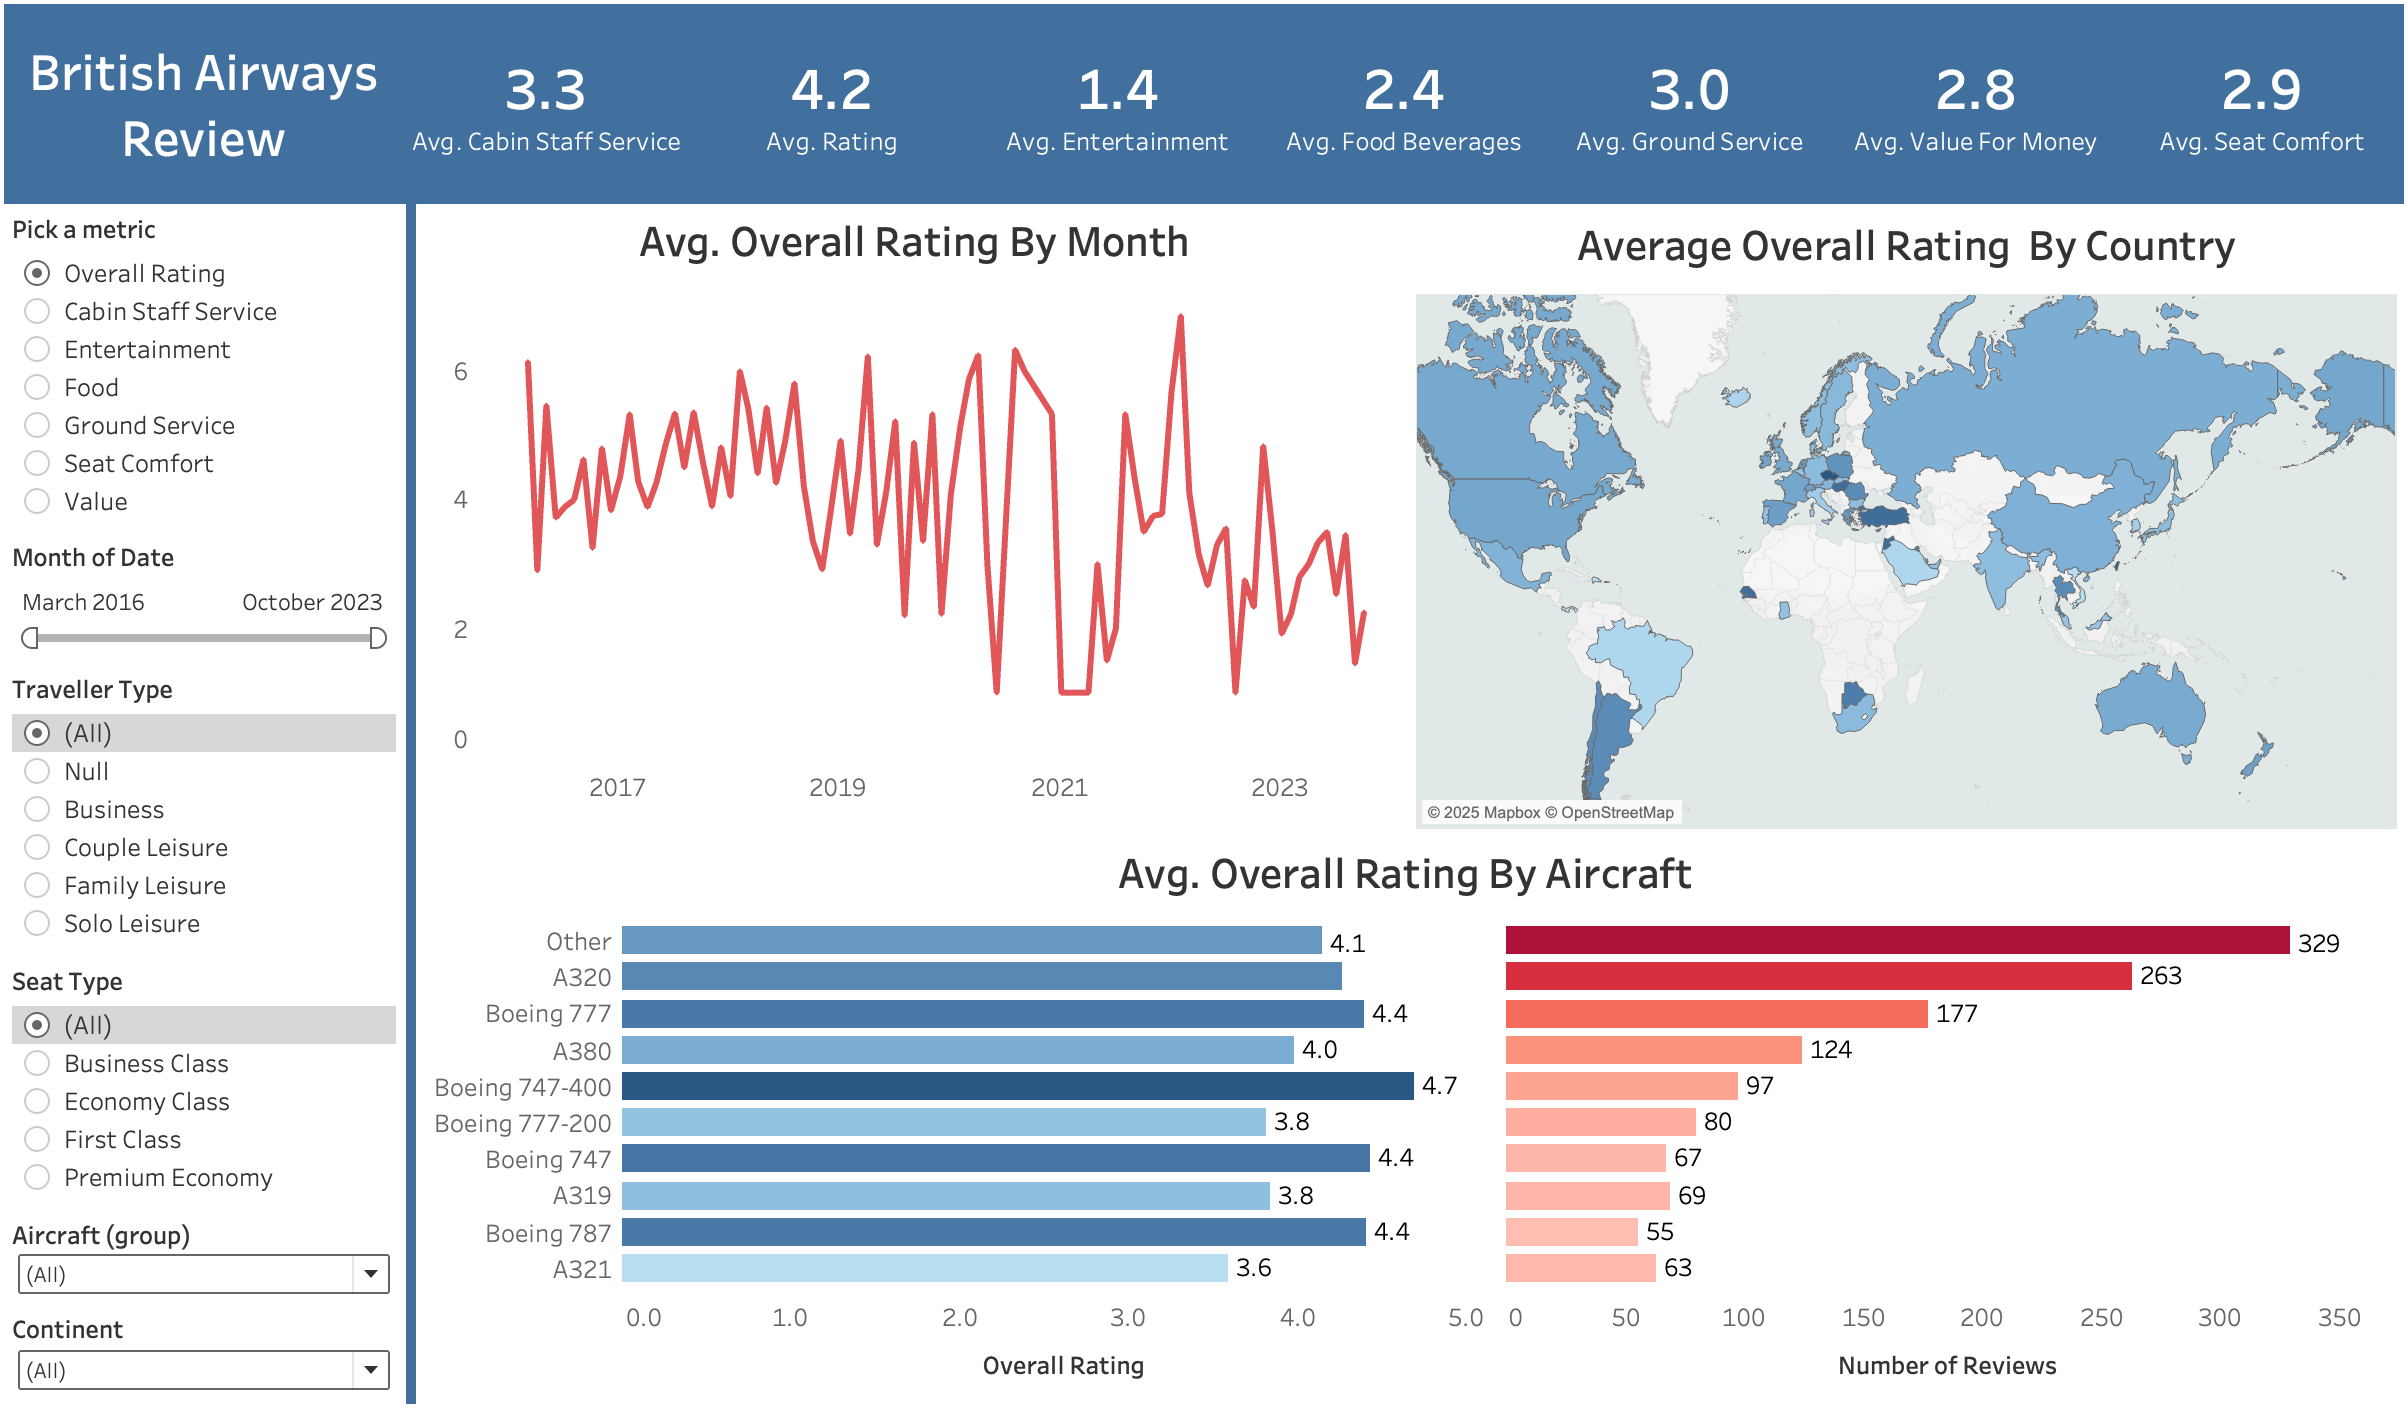

Layout of this report page (visuals, bound fields, positions):
{"tool":"tableau","page":{"name":"Dashboard 1","canvas":[1200,700],"ordinal":0},"visuals":[{"type":"text","box":[0,0,200,100]},{"type":"worksheet","title":"Summary","mark":"Automatic","box":[200,0,1000,100]},{"type":"blank","box":[201,88,5,612]},{"type":"parameter","param":"[Parameters].[Parameter 1]","box":[0,100,200,164]},{"type":"worksheet","title":"Monthly","mark":"Automatic","rows":["Calculation_1550927137938726912"],"cols":["date"],"box":[209,100,493,307]},{"type":"worksheet","title":"Map","mark":"Automatic","box":[706,102,491,311]},{"type":"filter","title":"Map","param":"[federated.1vzjs4r13u7o2l1akdo1916xthpt].[tmn:date:qk]","box":[0,264,200,66]},{"type":"filter","title":"Map","param":"[federated.1vzjs4r13u7o2l1akdo1916xthpt].[none:traveller_type:nk]","box":[0,330,200,146]},{"type":"worksheet","title":"Aircraft","mark":"Automatic","cols":["Calculation_1550927137938726912","ba_reviews.csv_84DCFA06C25743638EE5B51BF488D4E8"],"box":[209,416,985,280]},{"type":"filter","title":"Map","param":"[federated.1vzjs4r13u7o2l1akdo1916xthpt].[none:seat_type:nk]","box":[0,476,200,127]},{"type":"filter","title":"Map","param":"[federated.1vzjs4r13u7o2l1akdo1916xthpt].[Aircraft (group)]","box":[0,603,200,47]},{"type":"filter","title":"Map","param":"[federated.1vzjs4r13u7o2l1akdo1916xthpt].[none:Continent:nk]","box":[0,650,200,48]}]}

Visuals, with their boxes in screenshot pixels (x1, y1, x2, y2), scaled from the page's 1200x700 canvas onto the 2408x1410 screenshot:
text: box(0, 0, 401, 201)
"Summary" worksheet: box(401, 0, 2407, 201)
blank: box(403, 177, 413, 1409)
parameter: box(0, 201, 401, 532)
"Monthly" worksheet: box(419, 201, 1409, 820)
"Map" worksheet: box(1417, 205, 2402, 832)
"Map" filter: box(0, 532, 401, 665)
"Map" filter: box(0, 665, 401, 959)
"Aircraft" worksheet: box(419, 838, 2396, 1402)
"Map" filter: box(0, 959, 401, 1215)
"Map" filter: box(0, 1215, 401, 1309)
"Map" filter: box(0, 1309, 401, 1406)
